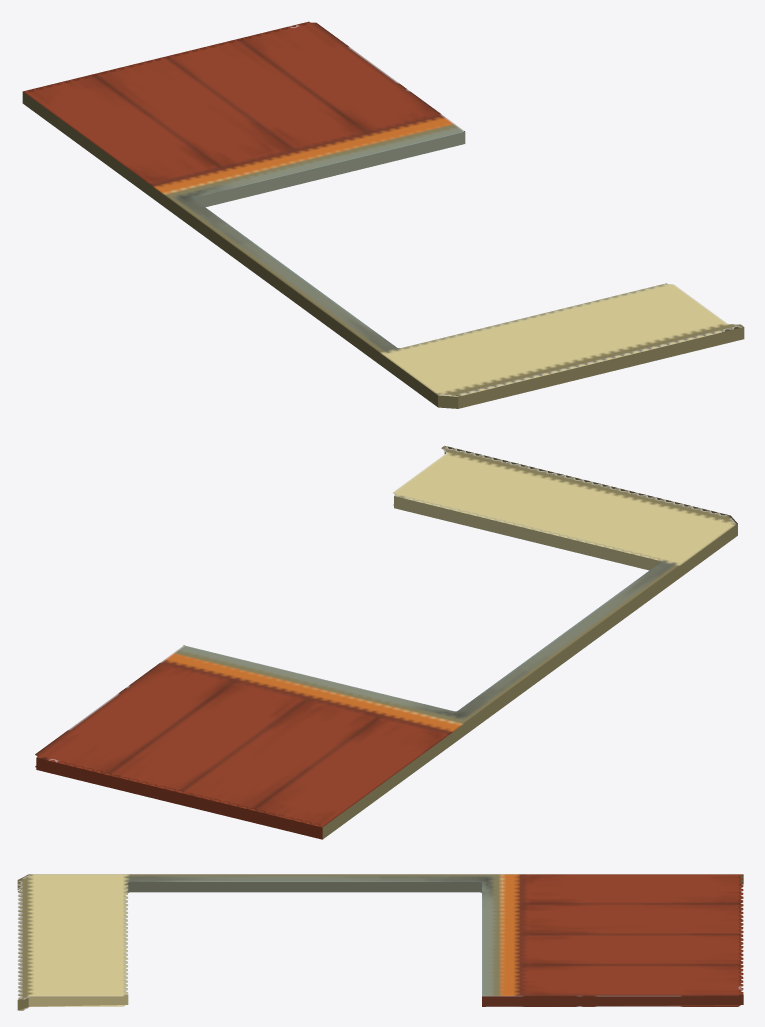
The model's file is pz_native_location_restaurant_spiffos_01_19_frame.obj.
3 views of the same model, one above another, from view 1: azimuth 30°, elevation 25°; view 2: azimuth 150°, elevation 25°; view 3: azimuth 270°, elevation 25° (orthographic). The views are drawn at different scales.
Parts seen in each view (by area): view 1: pz_native_location_restaurant_spiffos_01_19_frame; view 2: pz_native_location_restaurant_spiffos_01_19_frame; view 3: pz_native_location_restaurant_spiffos_01_19_frame.
Boxes of the visible parts, left/top/right/bottom form: pz_native_location_restaurant_spiffos_01_19_frame: left=22, top=21, right=744, bottom=408; pz_native_location_restaurant_spiffos_01_19_frame: left=35, top=446, right=737, bottom=839; pz_native_location_restaurant_spiffos_01_19_frame: left=17, top=874, right=743, bottom=1010.
Size of the model in its own units: 1.06 by 0.04 by 2.55.
Materials: 1 (1 with a texture image).
